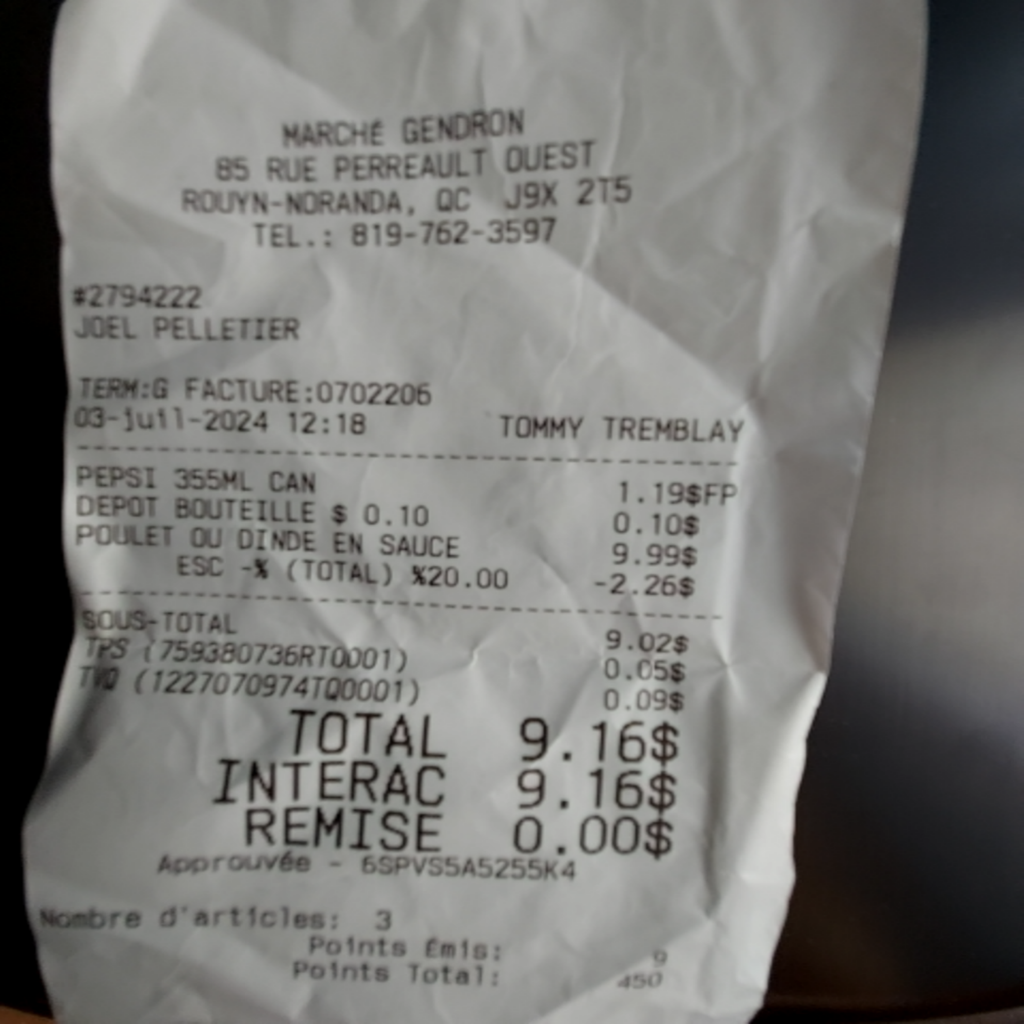recipt: (21, 0, 927, 1009)
